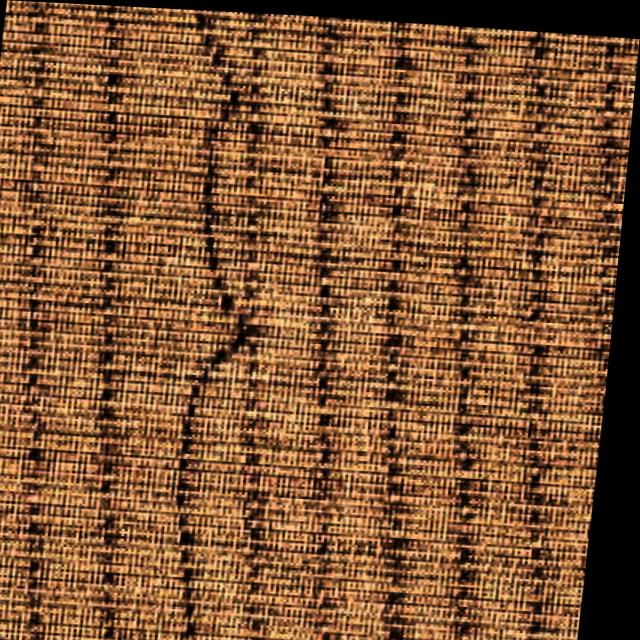Stitch: (134, 7, 307, 519)
